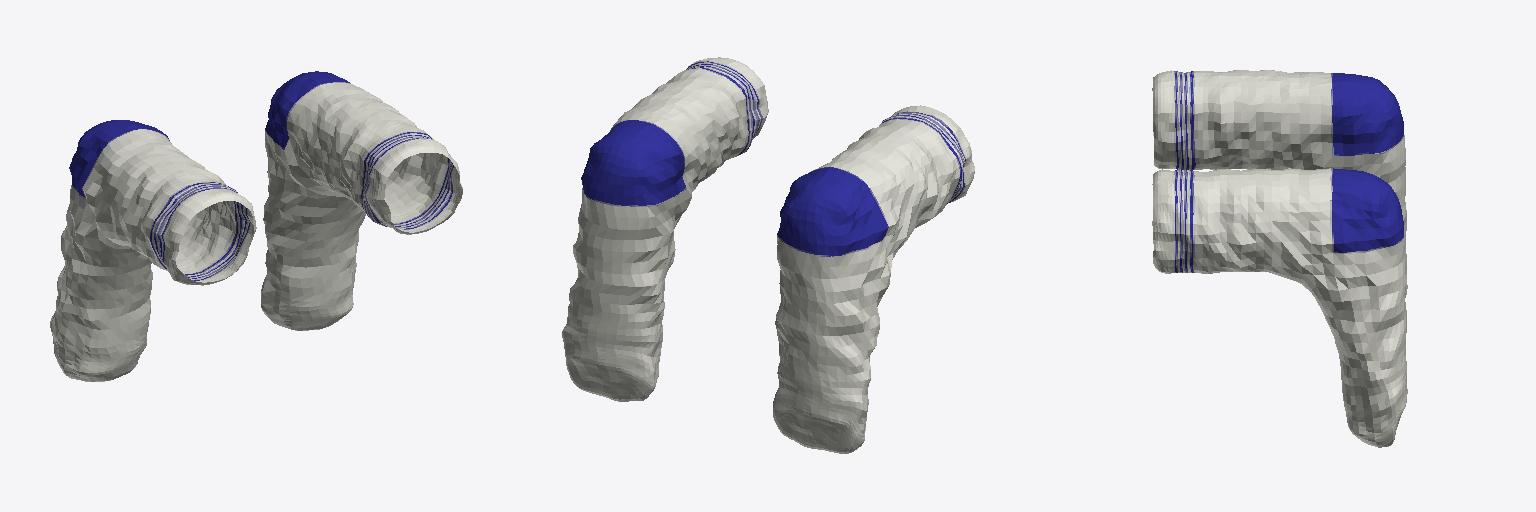
3 renders of one model, left to right at view 1: azimuth 30°, elevation 25°; view 2: azimuth 150°, elevation 25°; view 3: azimuth 270°, elevation 25°, orthographic.
Parts seen in each view (by area): view 1: socks; view 2: socks; view 3: socks.
Part boxes in pixels (bbox=[...]): socks: bbox=[50, 71, 462, 381]; socks: bbox=[562, 57, 974, 453]; socks: bbox=[1152, 70, 1407, 447].
Size of the model in its own units: 32.48 by 26.95 by 23.83.
Materials: 1 (1 with a texture image).